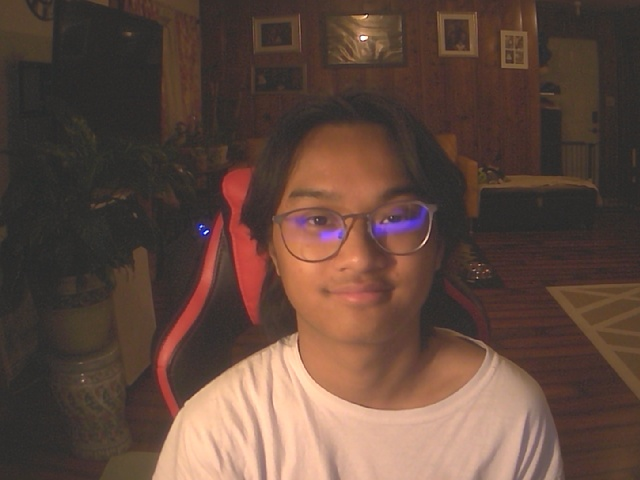happy: (241, 92, 469, 342)
